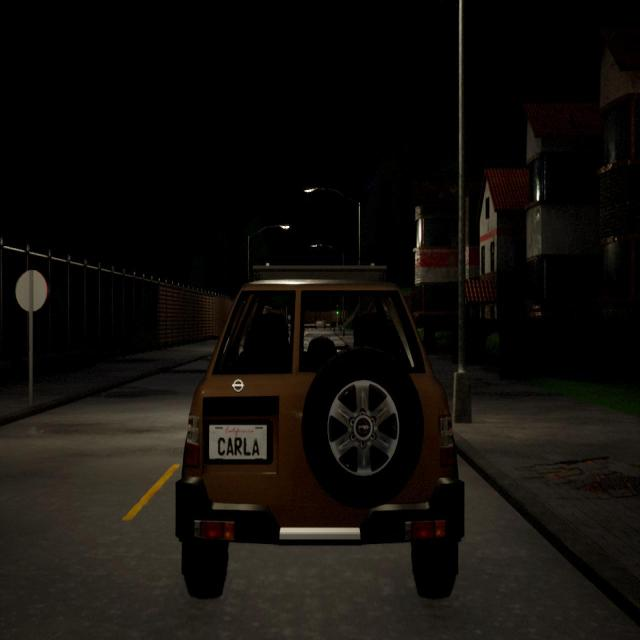Traffic_Signs: (15, 271, 50, 315), (286, 314, 292, 322)
Vehicle: (175, 264, 464, 597)
traffic_light: (335, 304, 339, 316)
